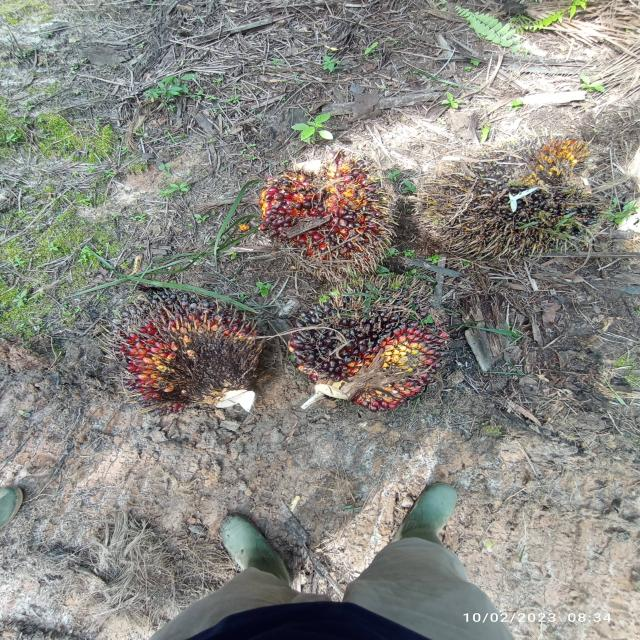fraksi 00: (398, 109, 626, 277), (85, 236, 285, 426), (274, 273, 483, 427)
fraksi 1: (202, 130, 402, 270)
